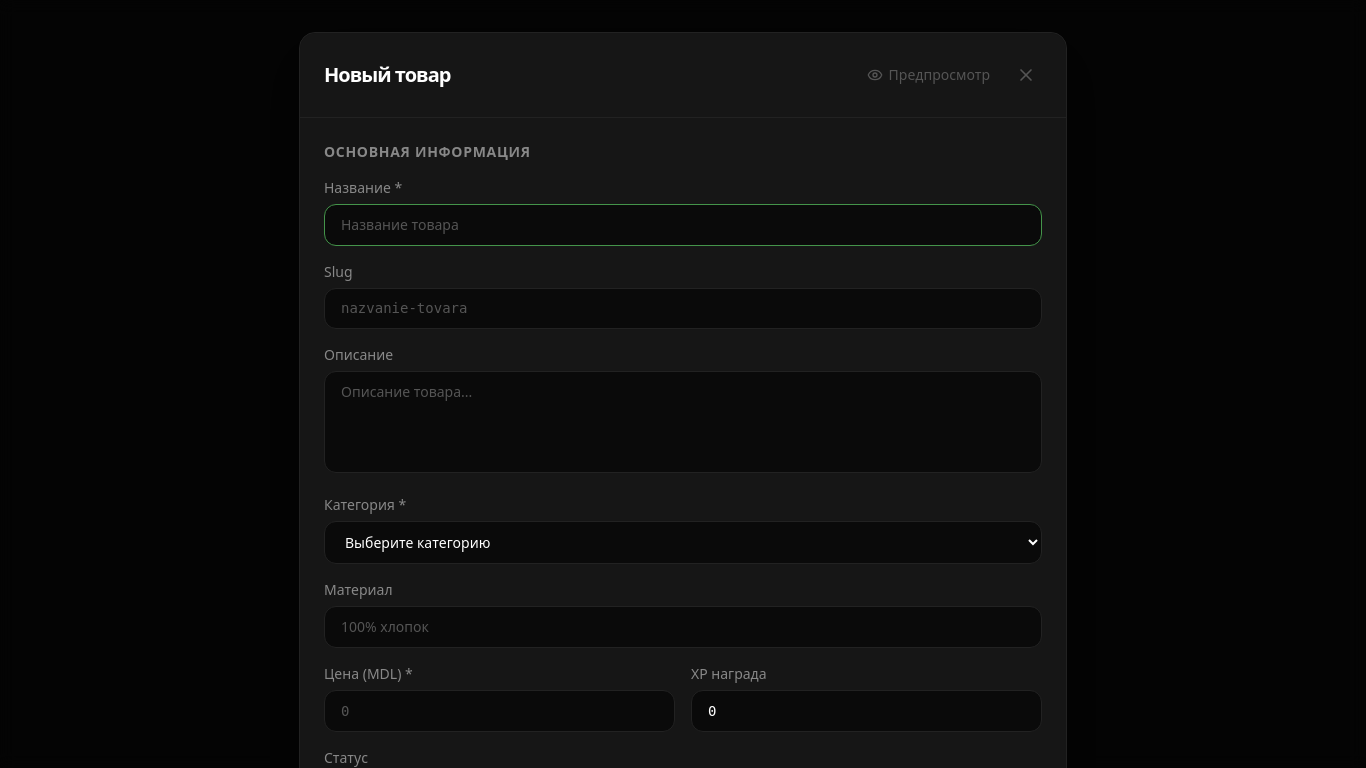
Test: ProductForm — brand editor (KAN-14) › removes a brand chip via its × button
Expected: the field with test id "pf-name" is shown, 324,204 -> 1042,246
Select "Одежда" in the dropdown with test id "pf-category" at (683, 542), box 324,521 -> 1042,564
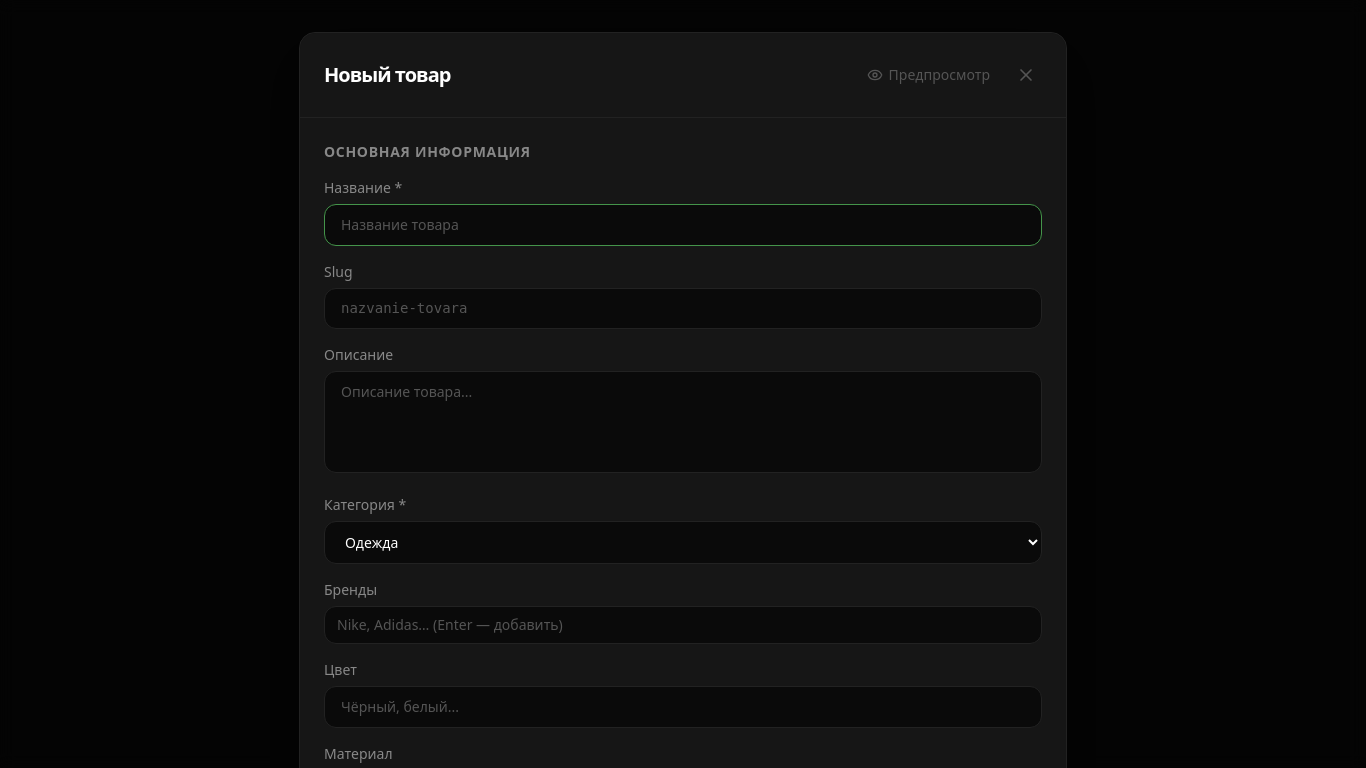
Type "Bape" into the field with test id "brand-input" at (683, 625), box 337,615 -> 1029,635
Then press Enter
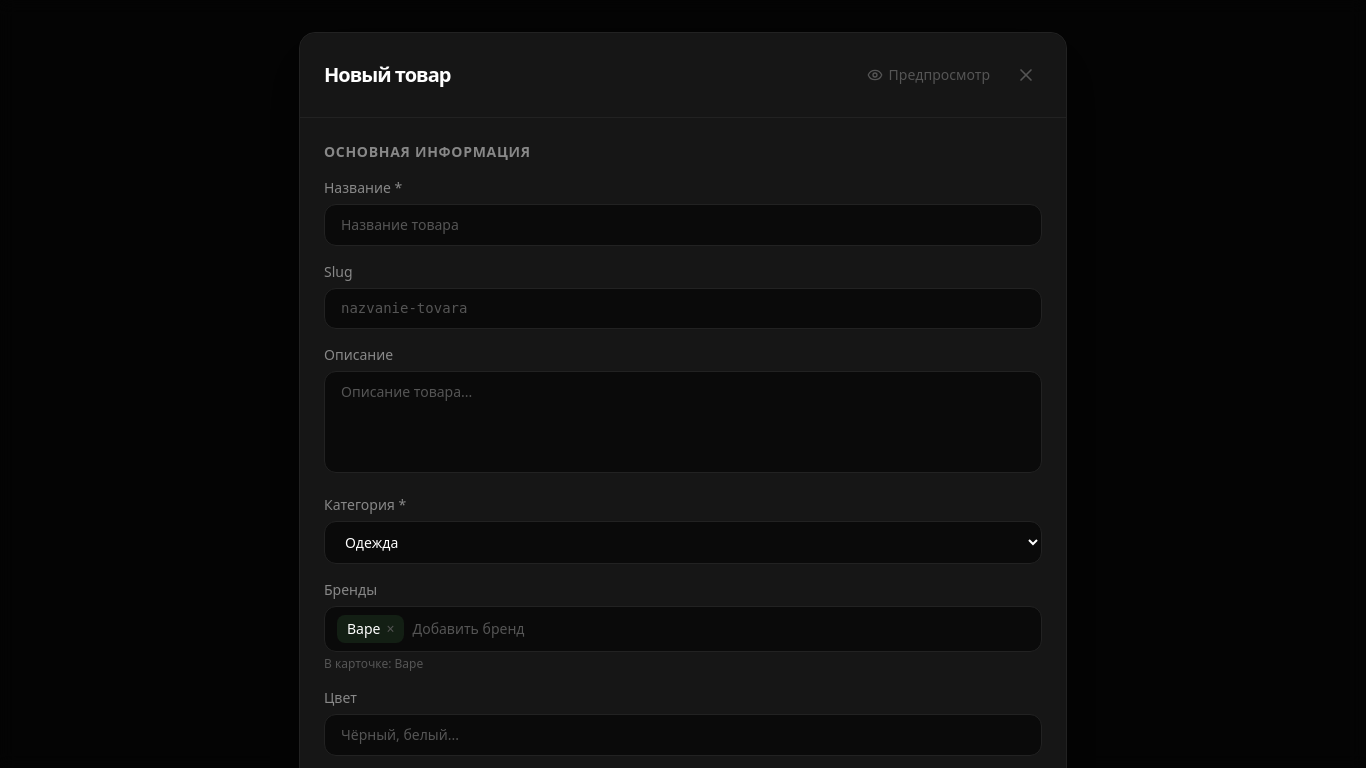
Click the button with test id "brand-remove-bape" at (390, 629), box 386,619 -> 394,639
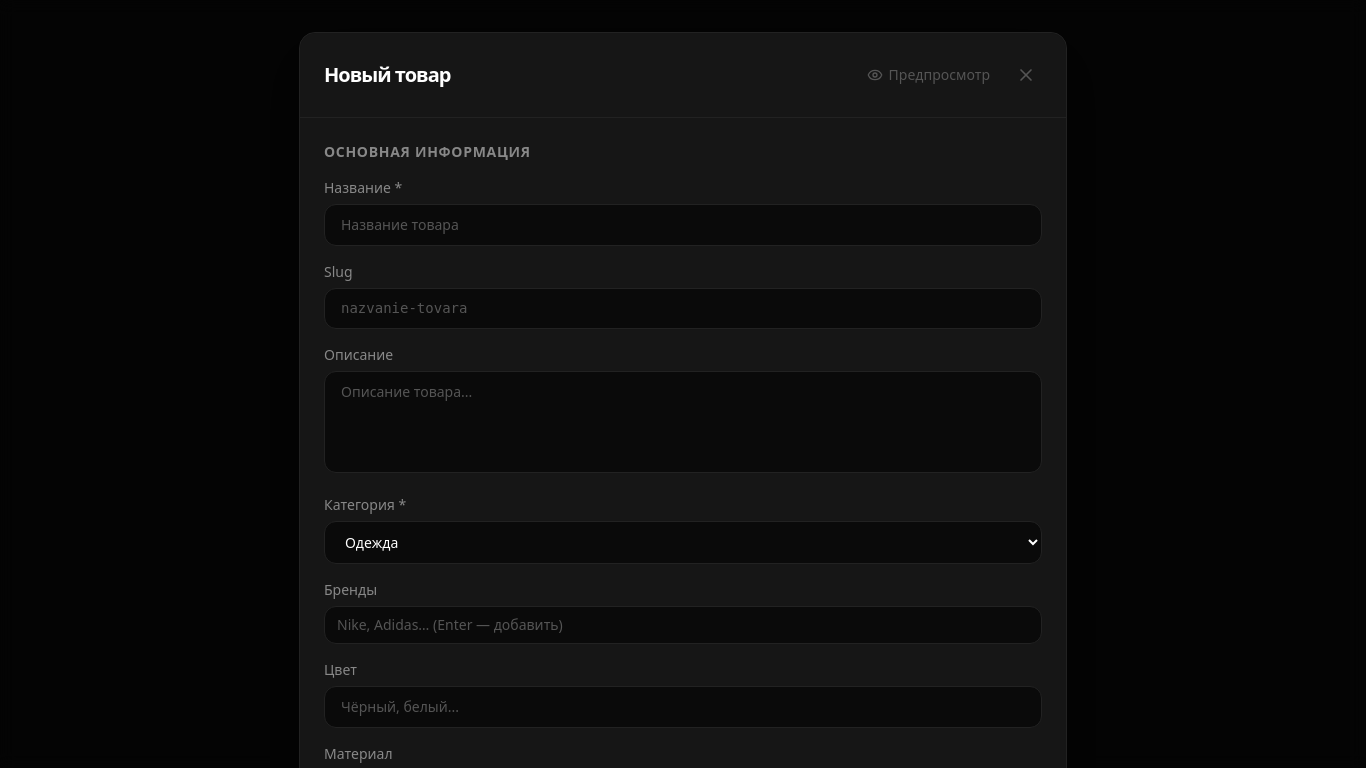
Expected: the element with test id "brand-chip-bape" is gone
Expected: the text "В карточке: Bape" is gone
